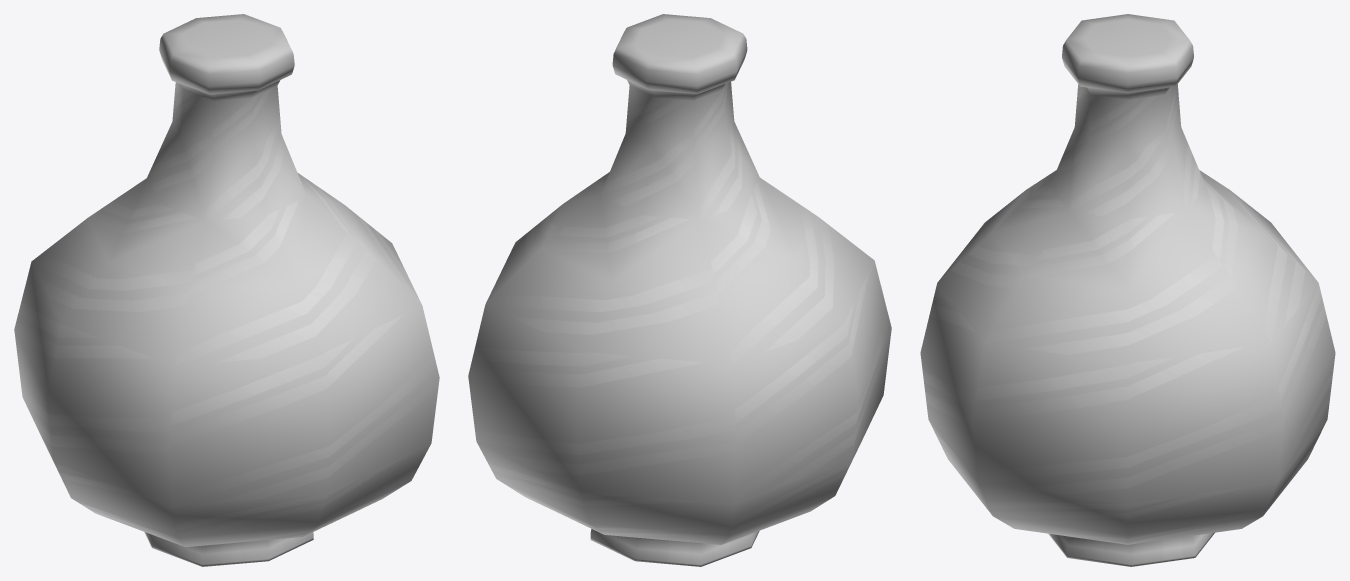
Rendered from RainMaker.fbx.
The picture shows the model from 3 angles, left to right: view 1: azimuth 30°, elevation 25°; view 2: azimuth 150°, elevation 25°; view 3: azimuth 270°, elevation 25°; orthographic projection.
Parts seen in each view (by area): view 1: RainCaller; view 2: RainCaller; view 3: RainCaller.
Boxes of the visible parts, bbox=[...] form: RainCaller: bbox=[14, 14, 439, 566]; RainCaller: bbox=[468, 14, 891, 566]; RainCaller: bbox=[920, 14, 1335, 566].
Bounding box in the file's own units: 0.9706 × 1.28 × 0.9706.
